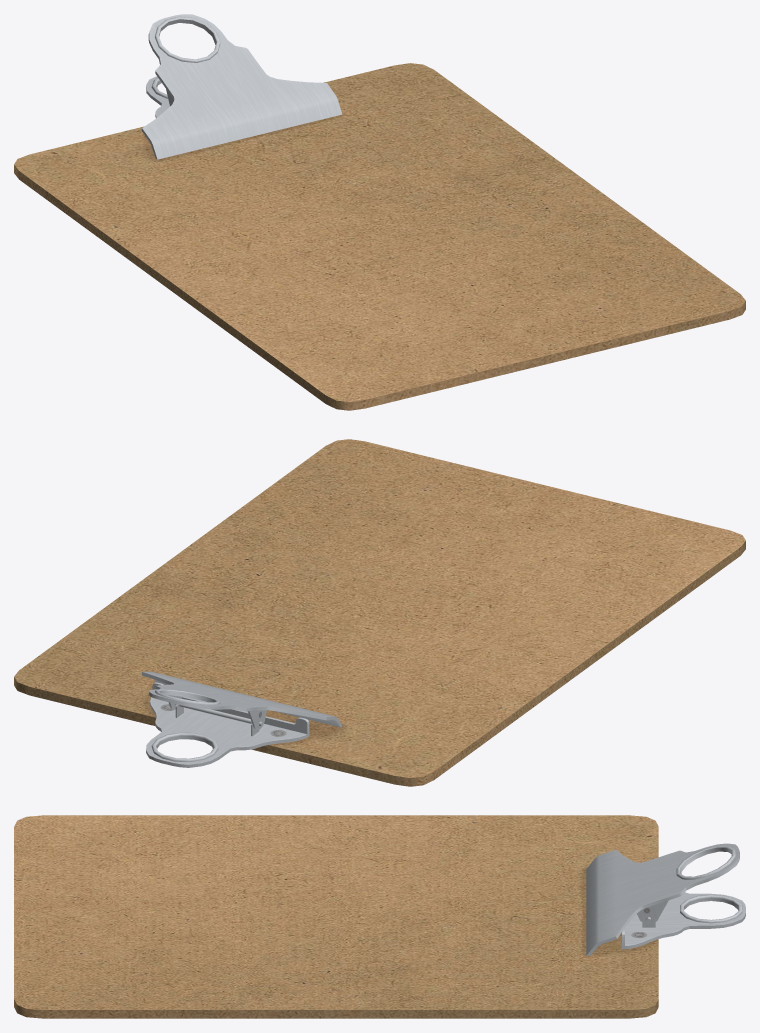
Rendered from SM_Clipboard_Empty.fbx.
3 renders of one model, top to bottom at view 1: azimuth 30°, elevation 25°; view 2: azimuth 150°, elevation 25°; view 3: azimuth 270°, elevation 25°, orthographic. The views are drawn at different scales.
Visible parts, largest first — view 1: SM_Clipboard_Empty_LOD0; view 2: SM_Clipboard_Empty_LOD0; view 3: SM_Clipboard_Empty_LOD0.
Boxes of the visible parts, left/top/right/bottom form: SM_Clipboard_Empty_LOD0: left=14, top=14, right=745, bottom=410; SM_Clipboard_Empty_LOD0: left=14, top=439, right=745, bottom=786; SM_Clipboard_Empty_LOD0: left=14, top=815, right=745, bottom=1018.
Bounding box in the file's own units: 25 × 39.73 × 4.13.
1 material, 1 textured.
